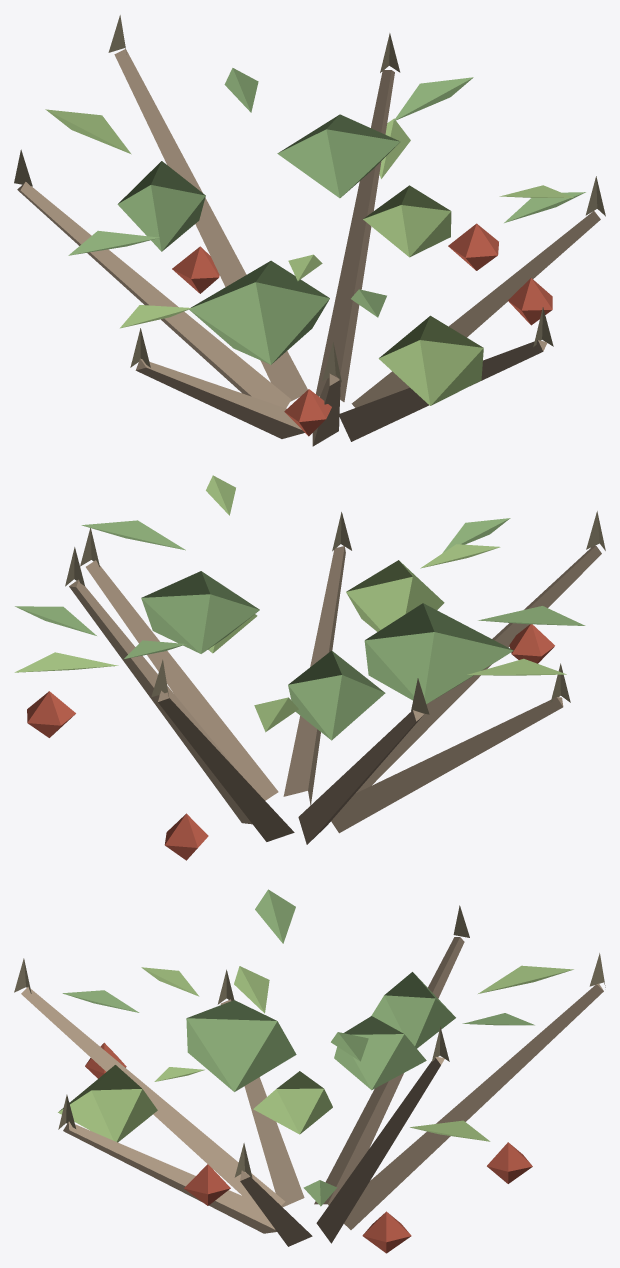
File: guan.xuangouzi__spring.glb
The picture shows the model from 3 angles, top to bottom: view 1: azimuth 30°, elevation 25°; view 2: azimuth 150°, elevation 25°; view 3: azimuth 270°, elevation 25°; orthographic projection. The views are drawn at different scales.
Visible parts, largest first — view 1: guan.xuangouzi__spring; view 2: guan.xuangouzi__spring; view 3: guan.xuangouzi__spring.
Boxes of the visible parts, x1=… form: guan.xuangouzi__spring: x1=14, y1=15, x2=605, y2=446; guan.xuangouzi__spring: x1=14, y1=475, x2=605, y2=860; guan.xuangouzi__spring: x1=14, y1=889, x2=605, y2=1253.
Bounding box in the file's own units: 2.76 × 1.46 × 2.92.
